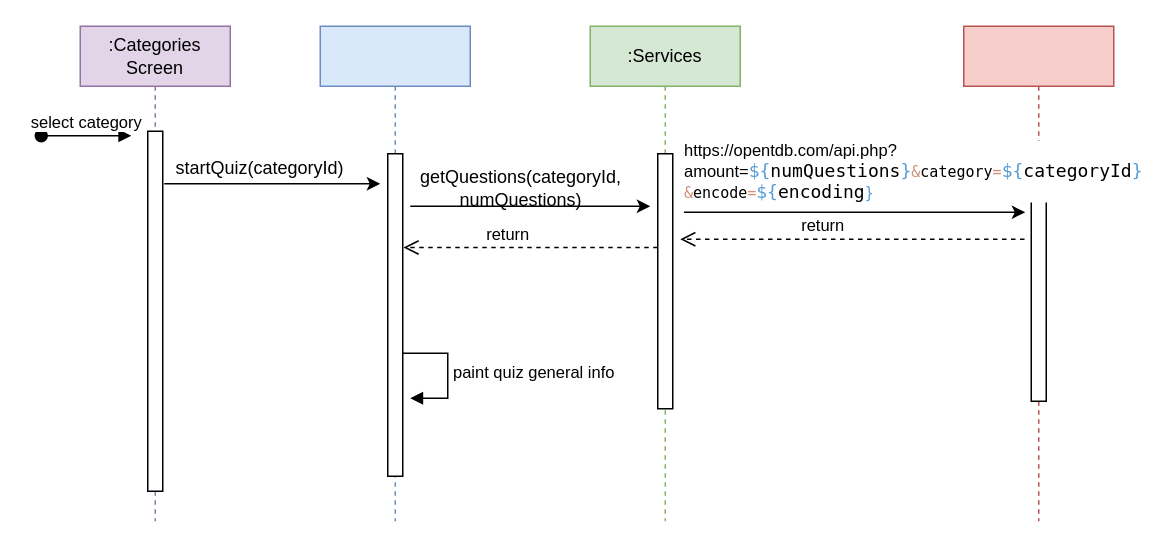
This 1169x548 diagram has some shape labels left out. Here are the shapes that lost their labels. From the top down, the box of each, then its label:
(319, 25, 470, 521): :Quiz Screen
(962, 25, 1114, 521): :Open Trivia
